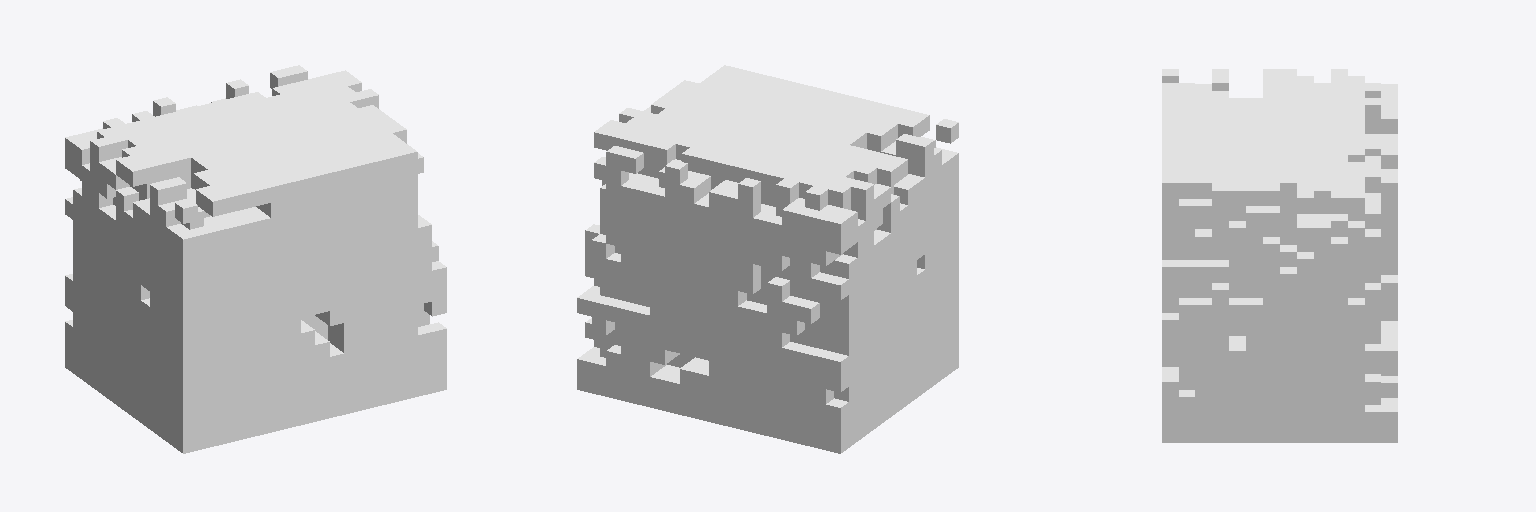
The model's file is House1-5.obj.
The picture shows the model from 3 angles: view 1: azimuth 30°, elevation 25°; view 2: azimuth 150°, elevation 25°; view 3: azimuth 270°, elevation 25°; orthographic projection.
Parts seen in each view (by area): view 1: object 1; view 2: object 1; view 3: object 1.
Part boxes in pixels (x1,y1,x2,y2): object 1: (65, 65, 446, 453); object 1: (577, 65, 958, 453); object 1: (1162, 69, 1397, 442).
Bounding box in the file's own units: 1.8 × 1.6 × 1.4.